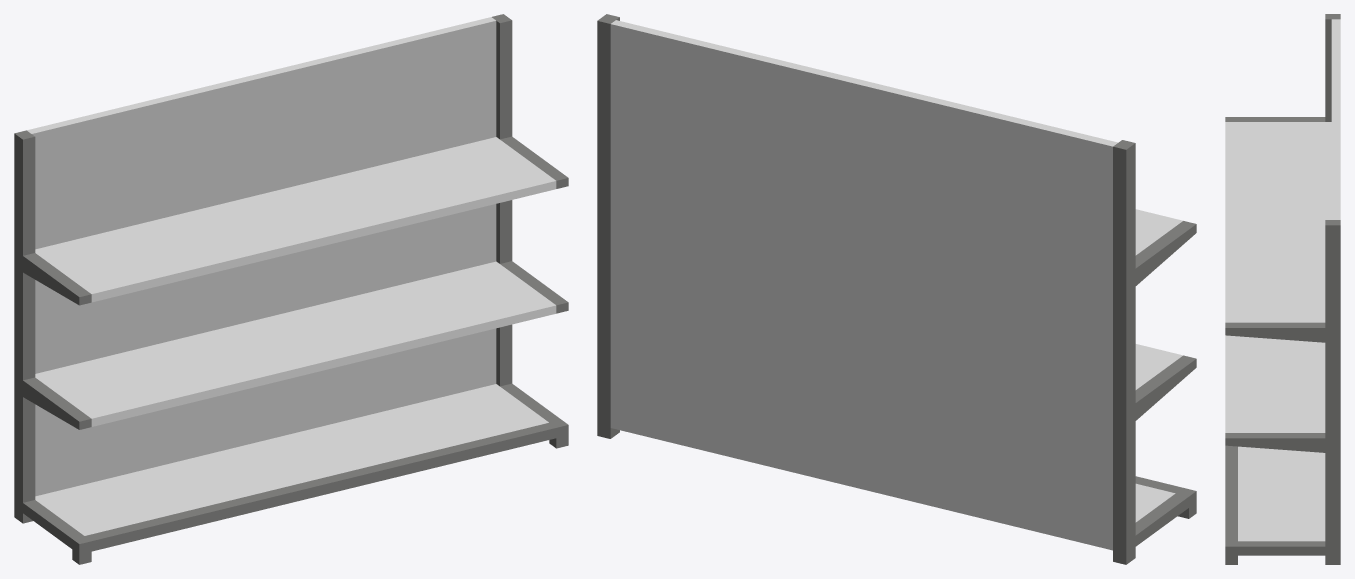
Rendered from Shelves_1.fbx.
The picture shows the model from 3 angles, left to right: view 1: azimuth 30°, elevation 25°; view 2: azimuth 150°, elevation 25°; view 3: azimuth 270°, elevation 25°; orthographic projection. The views are drawn at different scales.
Parts seen in each view (by area): view 1: Shelves_1; view 2: Shelves_1; view 3: Shelves_1.
Boxes of the visible parts, <box> form: Shelves_1: <box>14,14,568,564</box>; Shelves_1: <box>597,14,1196,564</box>; Shelves_1: <box>1225,14,1340,564</box>.
Size of the model in its own units: 200 by 150 by 46.1.
